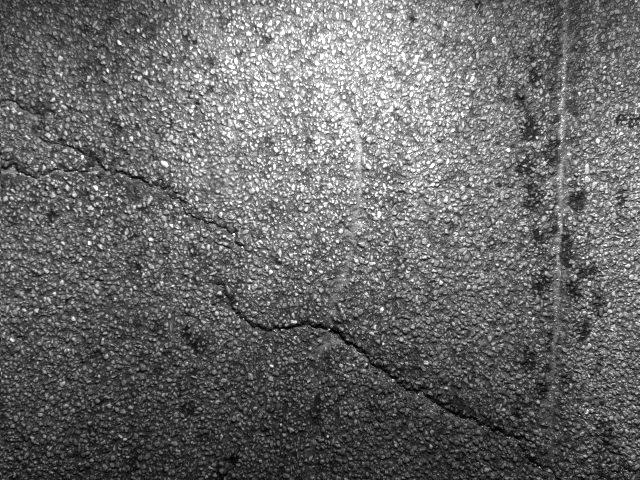crack: (8, 84, 580, 476)
